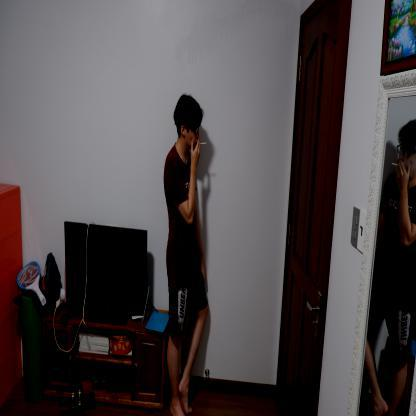cigarette: (199, 142, 208, 146)
person: (162, 91, 211, 415)
